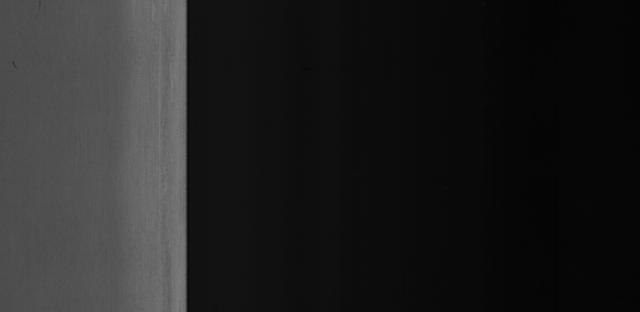inclusion: (1, 54, 25, 76)
